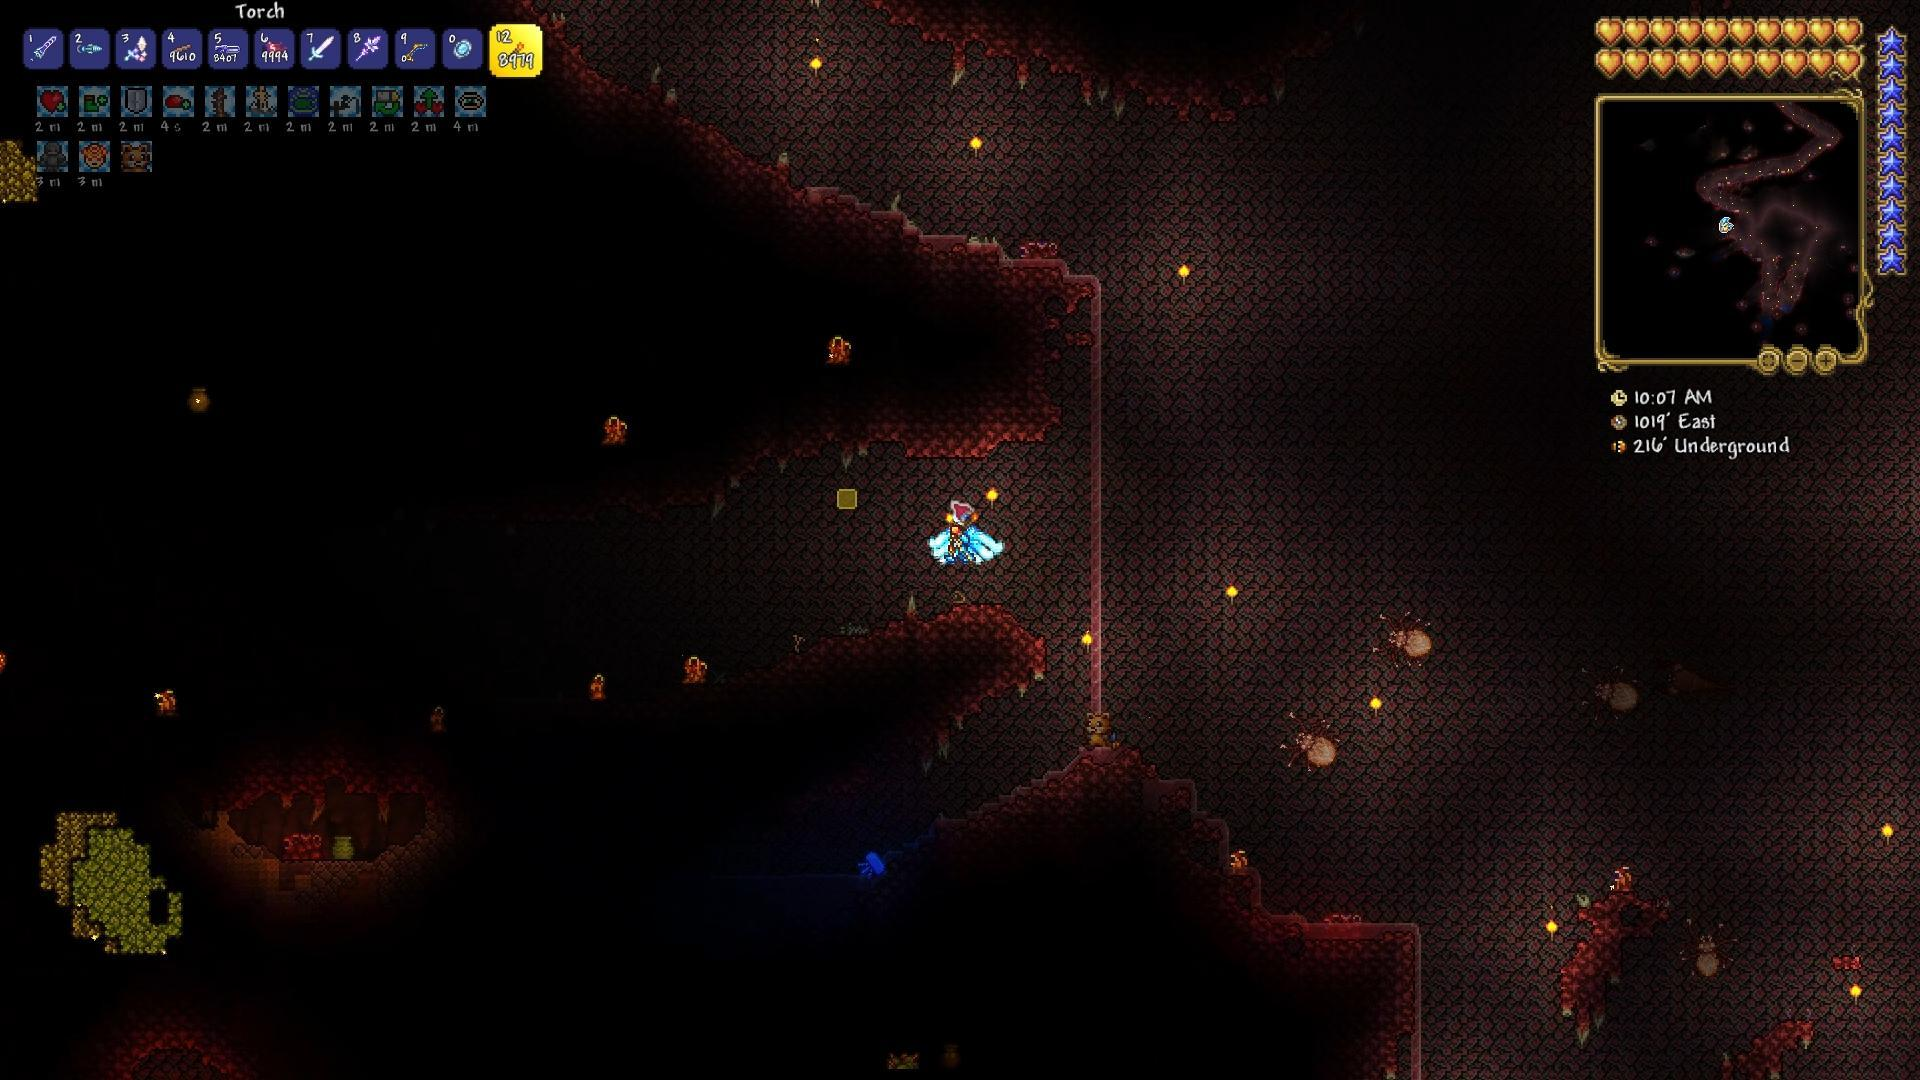spider: (1266, 694, 1342, 774), (1362, 596, 1439, 673), (1571, 649, 1646, 725), (1679, 907, 1735, 977)
